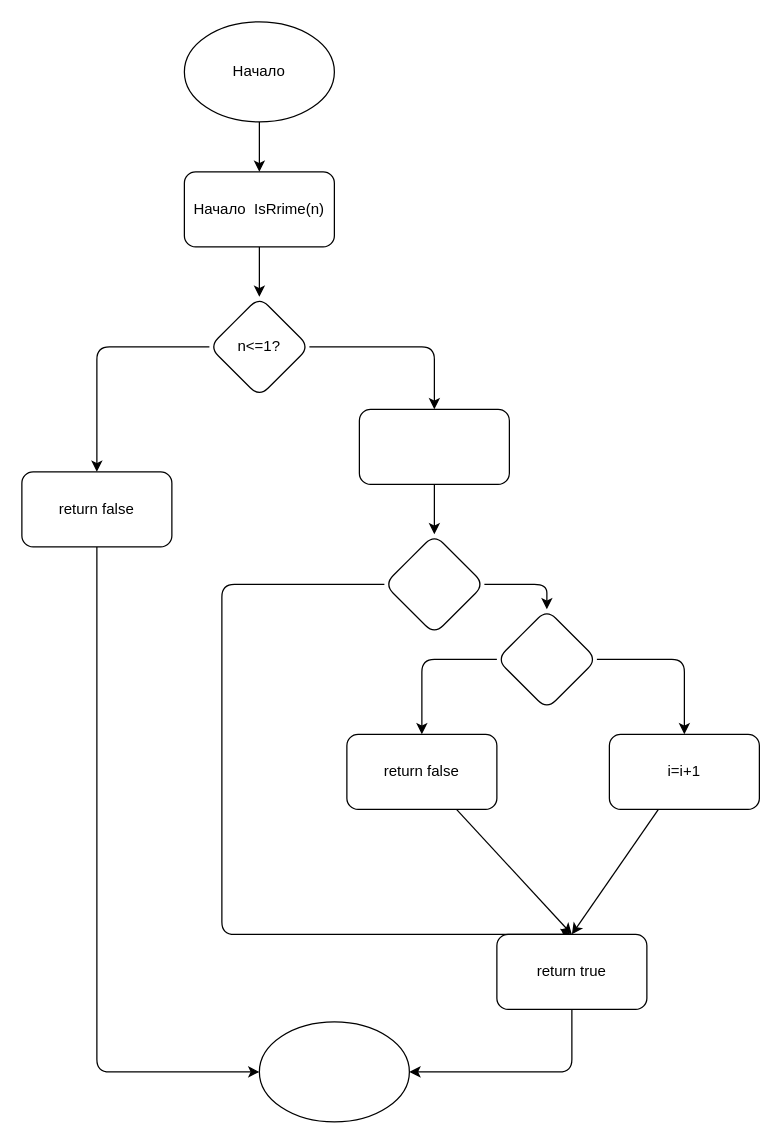
The diagram is 781 pixels wide and 1144 high, and some of its shapes have lost their labels. Each missing label, with the centre of its shape:
"i*i==0?" belongs at [433,583].
"i=2" belongs at [433,446].
"n%i==0?" belongs at [546,658].
"Конец" belongs at [333,1071].
